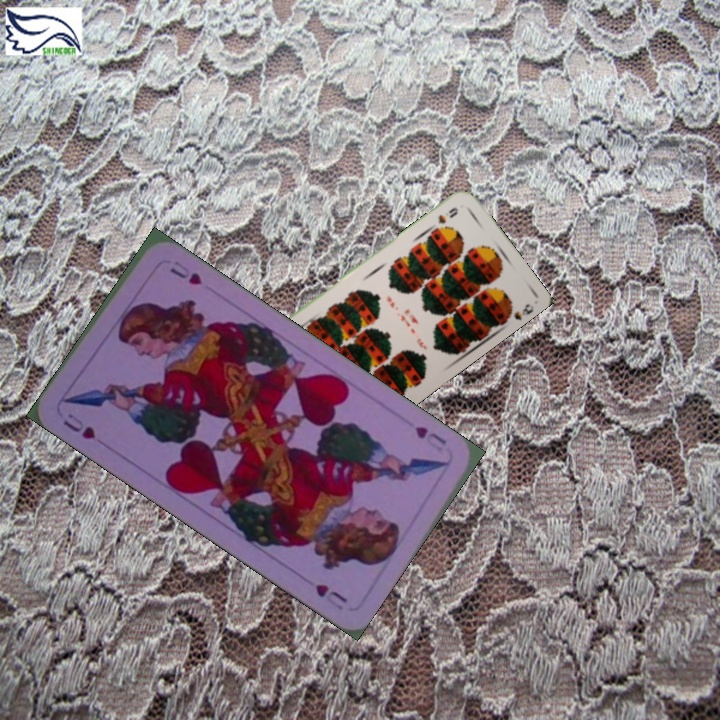HU: (59, 409, 99, 442), (410, 422, 449, 454)
S9: (434, 203, 461, 226)
